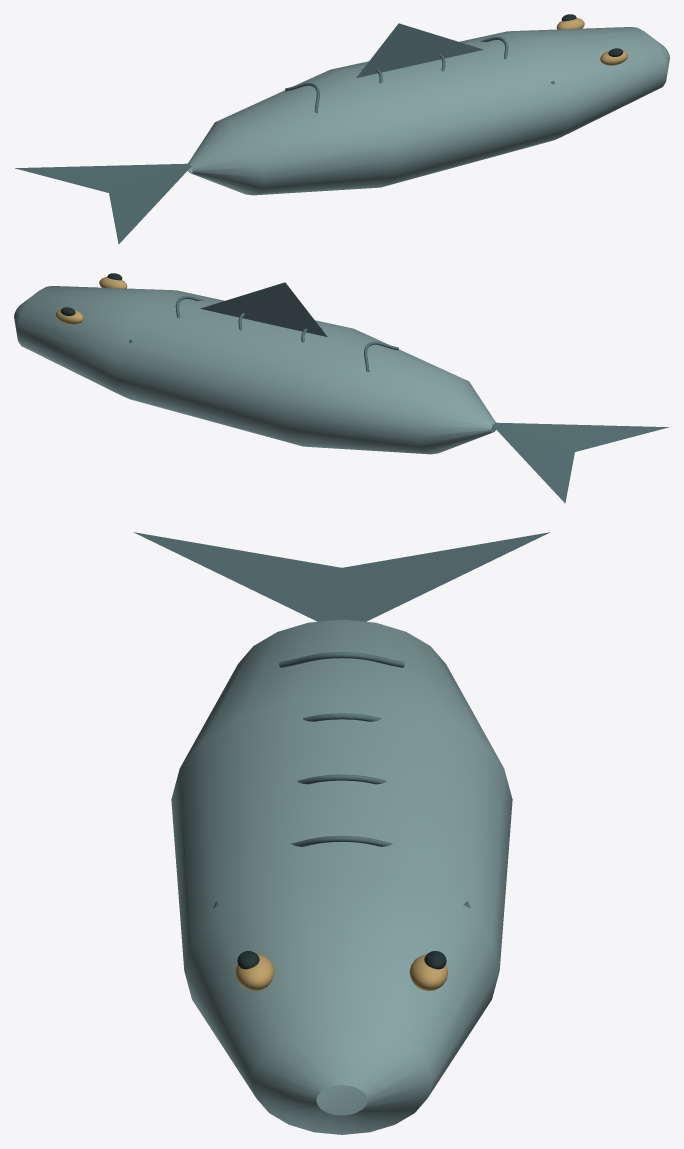
File: fish.glb
The picture shows the model from 3 angles, top to bottom: view 1: azimuth 30°, elevation 25°; view 2: azimuth 150°, elevation 25°; view 3: azimuth 270°, elevation 25°; orthographic projection. The views are drawn at different scales.
Visible parts, largest first — view 1: fish; view 2: fish; view 3: fish.
Boxes of the visible parts, x1,y1,x2,y2 form: fish: [15, 14, 669, 244]; fish: [14, 273, 668, 503]; fish: [133, 532, 550, 1134].
Bounding box in the file's own units: 0.4284 × 0.0995 × 0.13.
